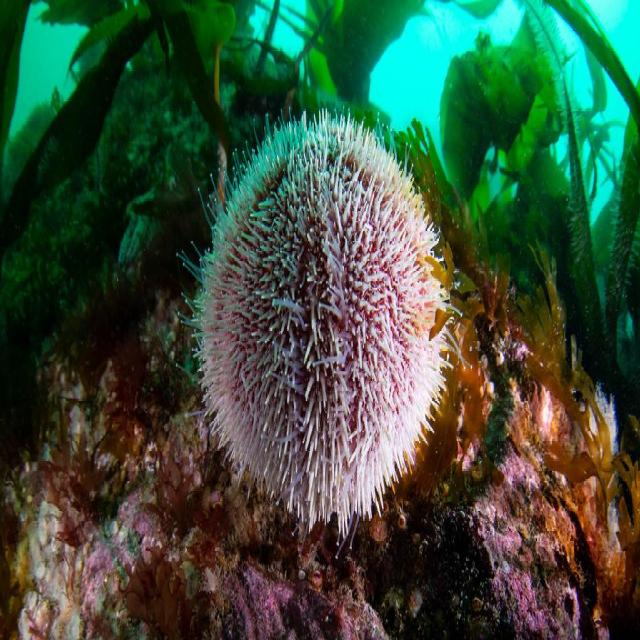Deniz Kestanesi: (175, 104, 473, 562)
